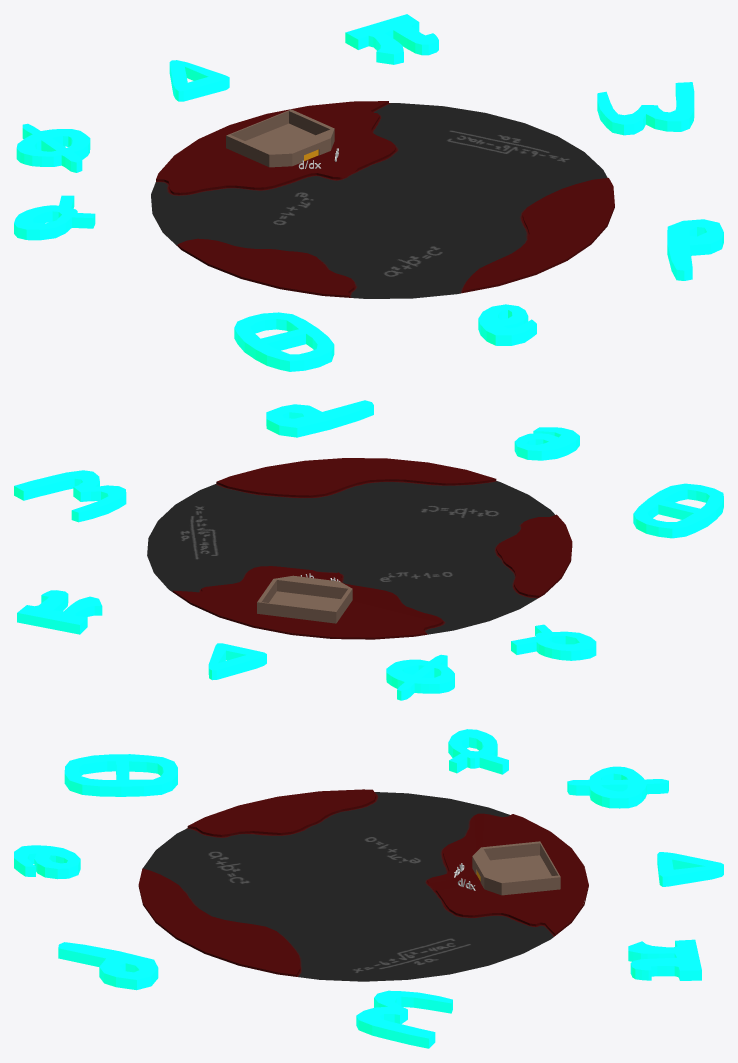
The model's file is planeta8Jugable.fbx.
The picture shows the model from 3 angles, top to bottom: view 1: azimuth 30°, elevation 25°; view 2: azimuth 150°, elevation 25°; view 3: azimuth 270°, elevation 25°; orthographic projection. The views are drawn at different scales.
Visible parts, largest first — view 1: BasePlaneta, CinturonCeleste, PalacioGauss; view 2: BasePlaneta, CinturonCeleste, PalacioGauss; view 3: BasePlaneta, CinturonCeleste, PalacioGauss.
Part boxes in pixels (x1=…): BasePlaneta: x1=151, y1=101, x2=614, y2=298; CinturonCeleste: x1=14, y1=14, x2=723, y2=371; PalacioGauss: x1=226, y1=109, x2=334, y2=167; BasePlaneta: x1=147, y1=458, x2=572, y2=639; CinturonCeleste: x1=14, y1=400, x2=723, y2=700; PalacioGauss: x1=257, y1=575, x2=352, y2=623; BasePlaneta: x1=138, y1=789, x2=588, y2=981; CinturonCeleste: x1=14, y1=729, x2=723, y2=1048; PalacioGauss: x1=472, y1=841, x2=560, y2=895.
Size of the model in its own units: 325 by 7 by 315.
